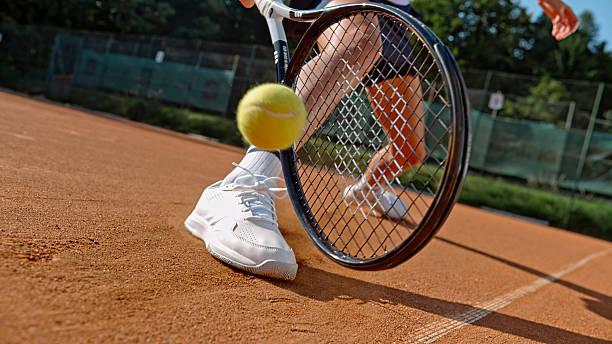ball_tennis: (236, 83, 306, 151)
